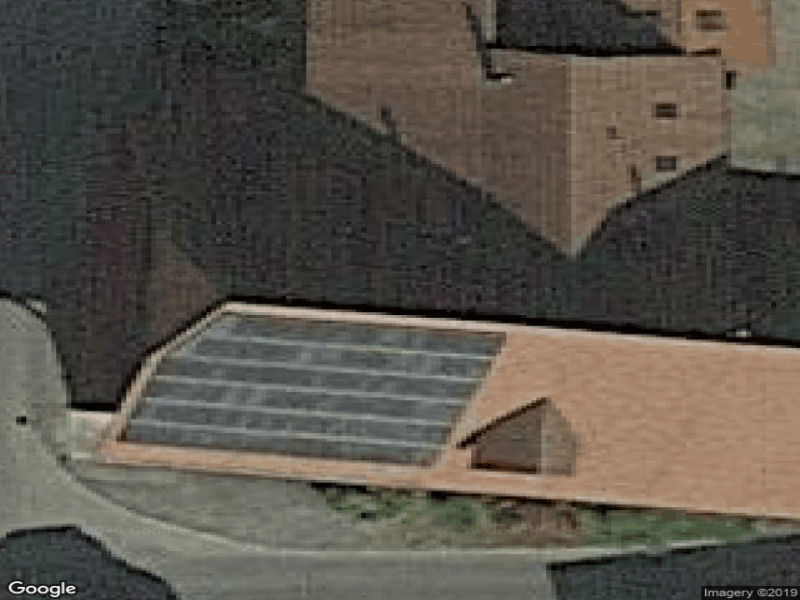pv: (119, 311, 506, 467)
